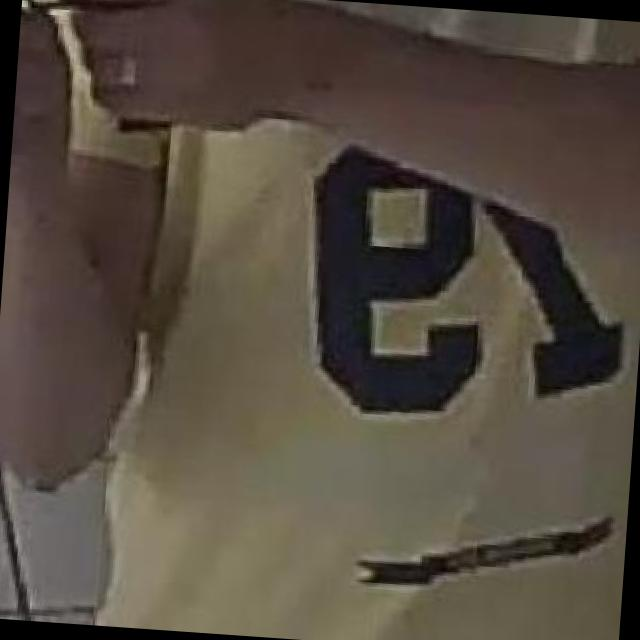Guns: (19, 0, 262, 43)
